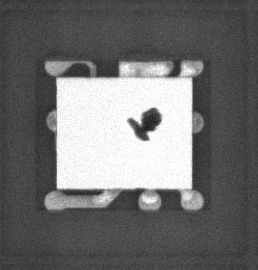DIE_INK: (120, 111, 155, 148)
